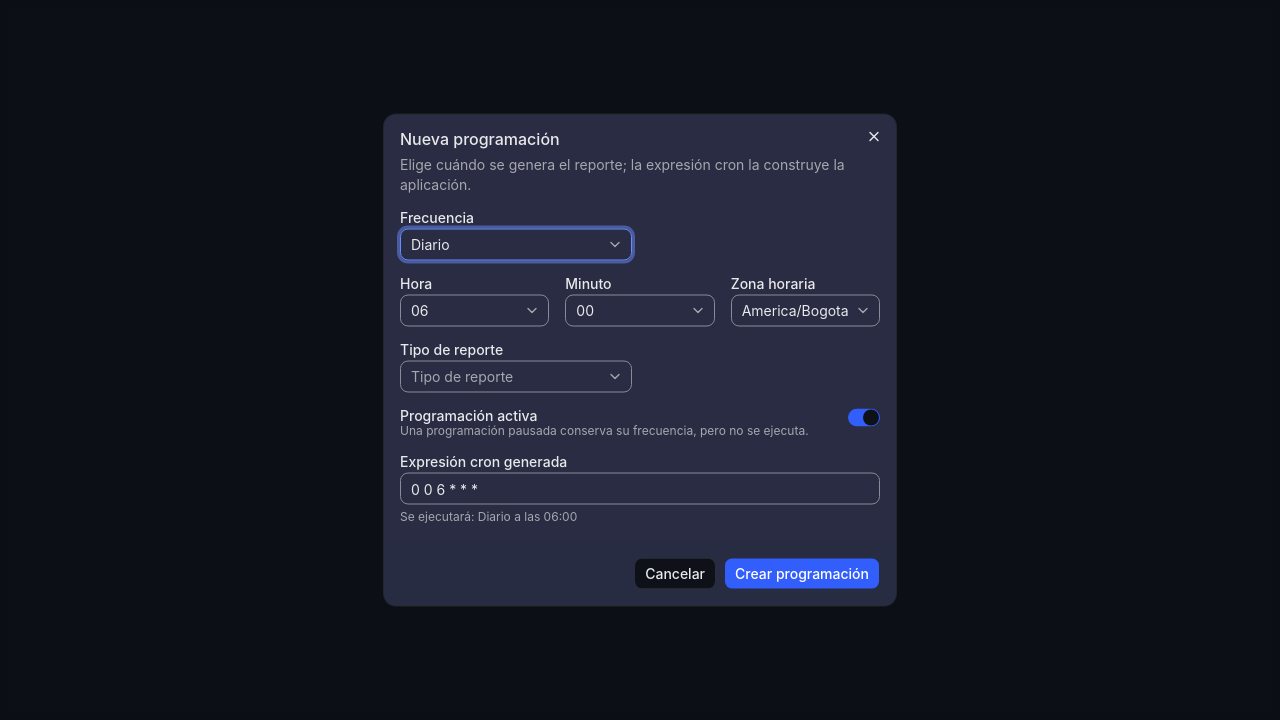
Test: ScheduleFormDialog — crear desde preset (C7) › un 400 de cron se traduce al mensaje seguro, nunca al texto crudo
Step 1. Click the dropdown with test id "schedule-type-select" → (516, 376), box [400, 360, 632, 392]
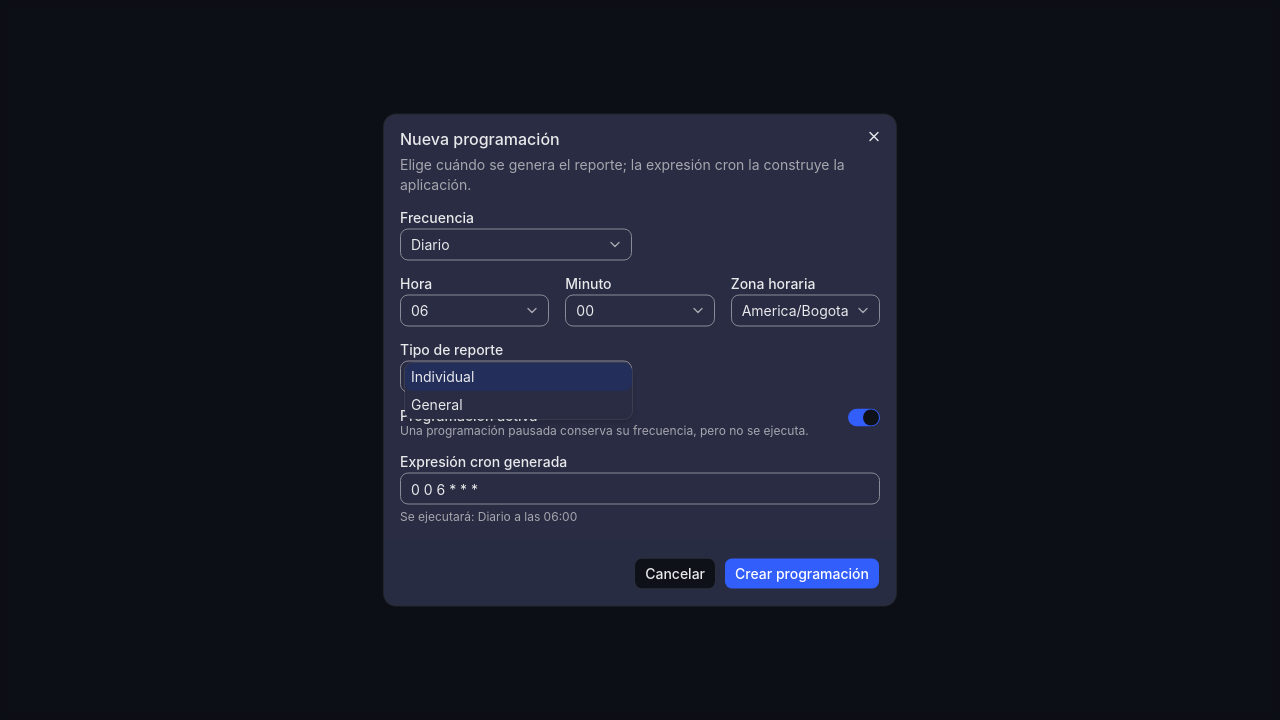
Step 2. Click the option "General" → (437, 404), box [411, 396, 463, 412]
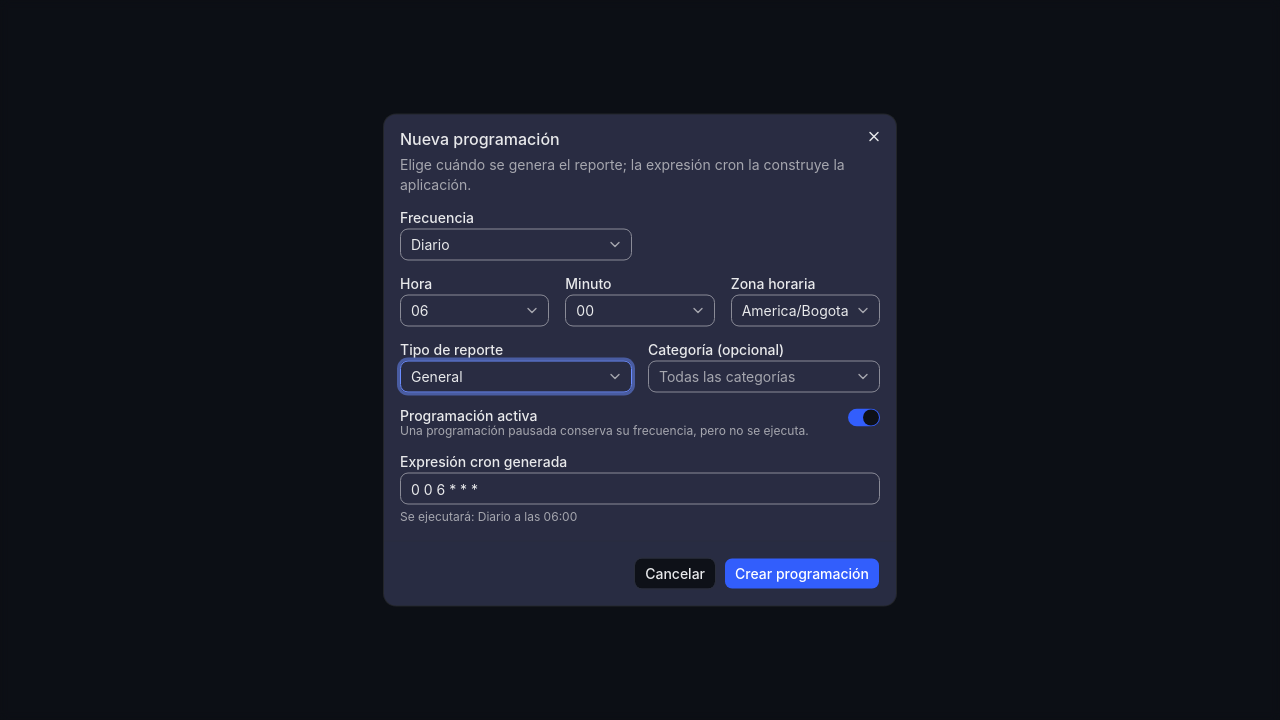
Step 3. Click the button with test id "schedule-submit" → (802, 574), box [724, 558, 880, 590]
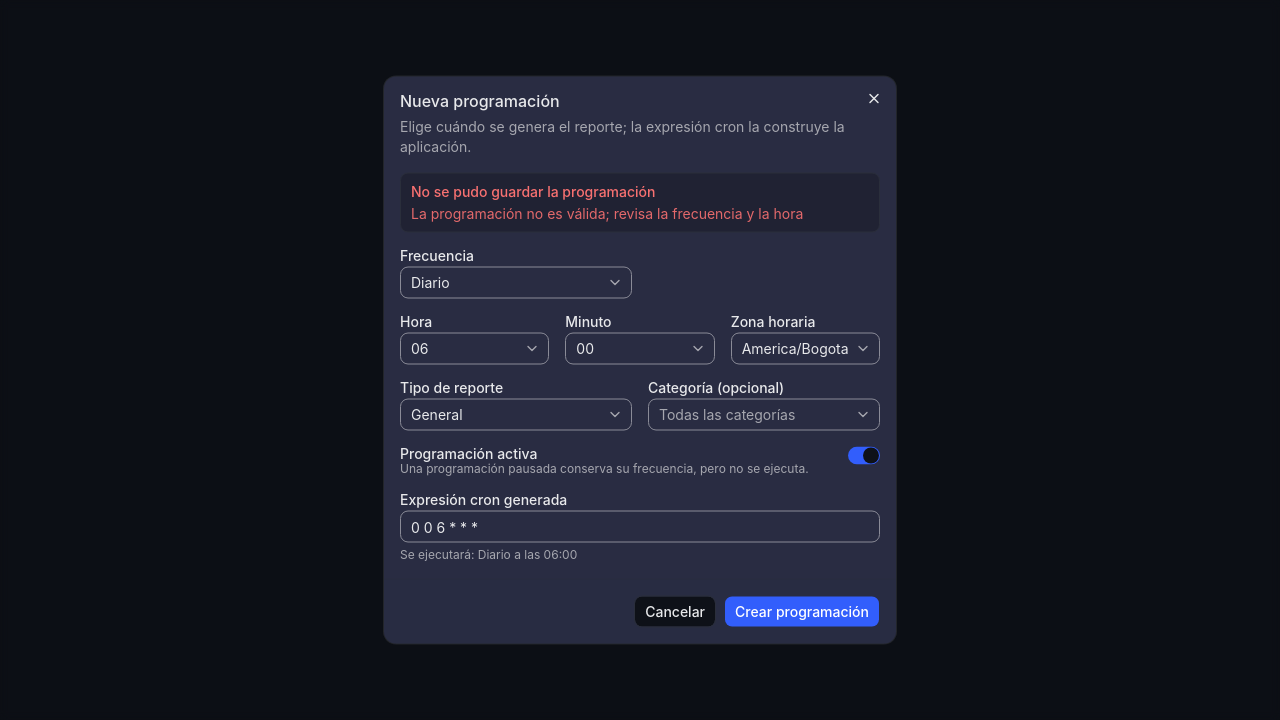
Expected: the message with test id "schedule-form-error" does not show "Expresión cron inválida", [400, 172, 880, 232]
Now the message with test id "schedule-form-error" shows "La programación no es válida; revisa la frecuencia y la hora", box [411, 204, 803, 222]
